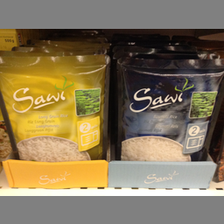rice: (1, 51, 111, 161), (115, 55, 224, 163)
